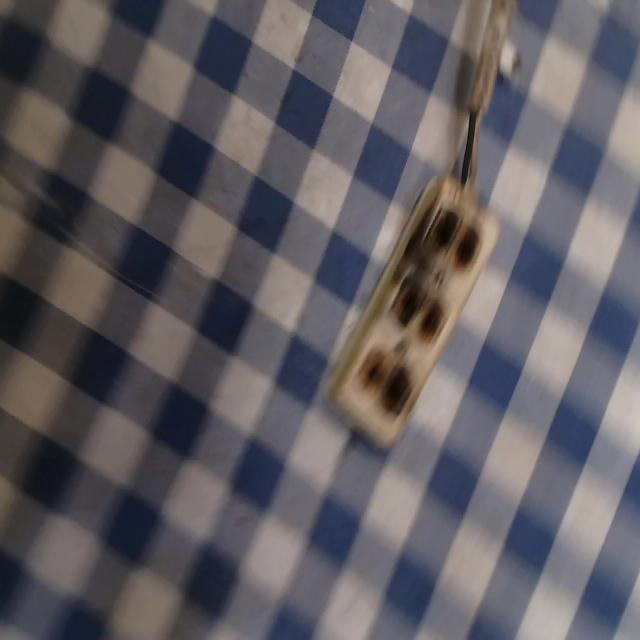-: (388, 268, 449, 348), (427, 204, 483, 272)
